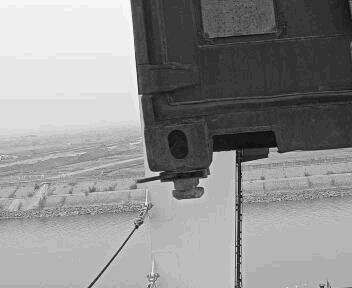twist_lock_1: (147, 159, 218, 210)
